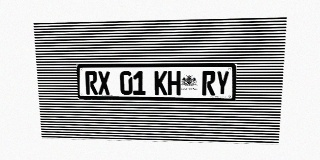0: (120, 71, 132, 95)
1: (133, 71, 145, 95)
H: (168, 71, 181, 95)
K: (154, 71, 167, 95)
R: (202, 71, 216, 95), (85, 71, 98, 95)
X: (97, 71, 110, 95)
Y: (215, 71, 229, 96)
